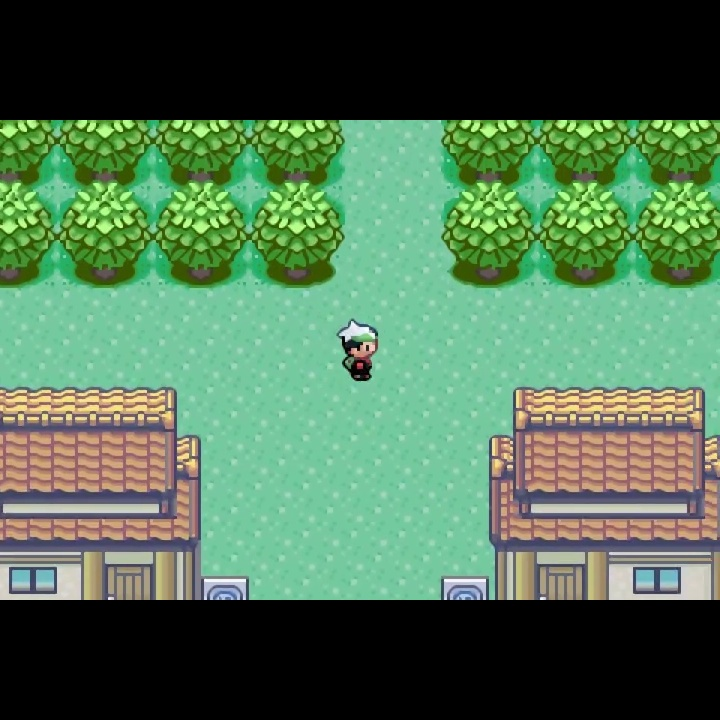house: (485, 384, 720, 600), (1, 381, 206, 601)
npc: (336, 317, 380, 384)
wall: (56, 179, 153, 292), (537, 179, 634, 291), (440, 179, 538, 289), (152, 180, 249, 289), (250, 180, 346, 288), (633, 179, 720, 291), (536, 120, 634, 184), (1, 179, 56, 291), (247, 120, 345, 182), (56, 120, 154, 181), (440, 121, 538, 181), (154, 120, 248, 182), (633, 119, 720, 183), (1, 119, 57, 179)
